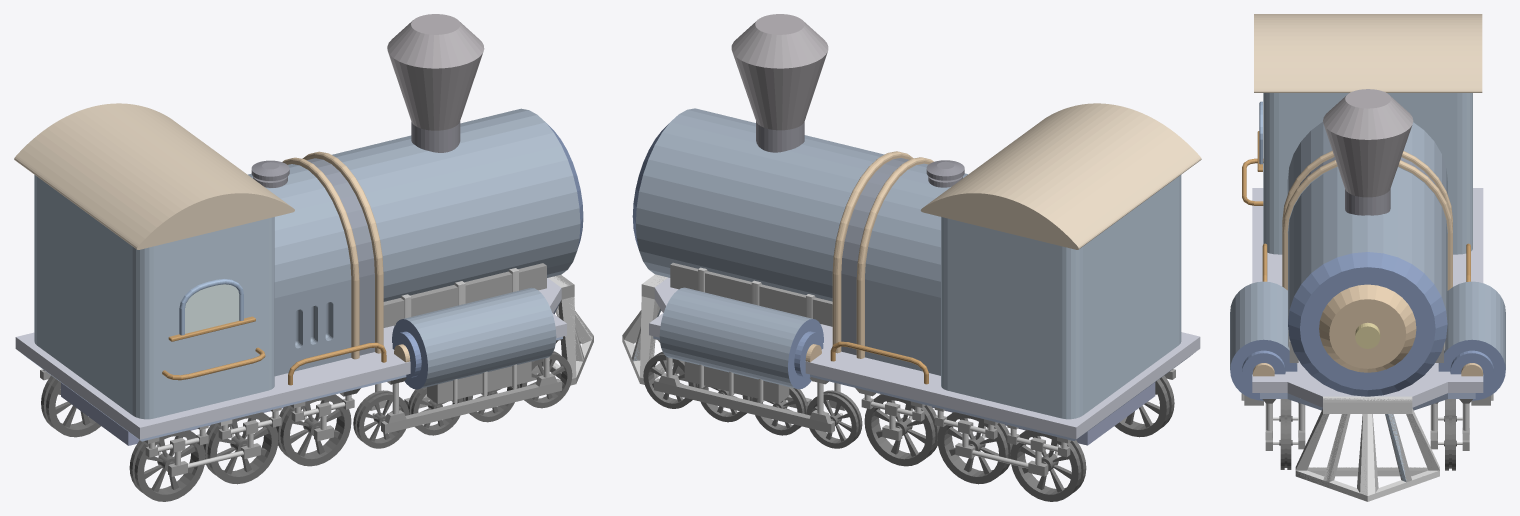
Rendered from locomotive.fbx.
3 renders of one model, left to right at view 1: azimuth 30°, elevation 25°; view 2: azimuth 150°, elevation 25°; view 3: azimuth 270°, elevation 25°, orthographic. The views are drawn at different scales.
Parts seen in each view (by area): view 1: 立方体.149, 柱体.142, 柱体.101, 柱体.137, 柱体.122, 柱体.090, 柱体.127, 柱体.175, 柱体.176; view 2: 立方体.149, 柱体.142, 柱体.102, 柱体.127, 柱体.121, 柱体.091, 柱体.137, 柱体.173, 柱体.165, 立方体.030, 柱体.172; view 3: 立方体.149, 柱体.142, 立方体.025, 立方体.027, 立方体.031, 立方体.030, 柱体.175, 柱体.173, 立方体.029, 立方体.032, 立方体.026, 立方体.028.
Part boxes in pixels (x1=…): 立方体.149: x1=14, y1=103, x2=593, y2=476; 柱体.142: x1=387, y1=14, x2=484, y2=152; 柱体.101: x1=276, y1=394, x2=351, y2=466; 柱体.137: x1=129, y1=430, x2=205, y2=501; 柱体.122: x1=203, y1=412, x2=278, y2=484; 柱体.090: x1=353, y1=390, x2=409, y2=448; 柱体.127: x1=41, y1=375, x2=100, y2=437; 柱体.175: x1=517, y1=351, x2=572, y2=408; 柱体.176: x1=408, y1=387, x2=463, y2=435; 立方体.149: x1=632, y1=103, x2=1201, y2=476; 柱体.142: x1=731, y1=14, x2=828, y2=152; 柱体.102: x1=864, y1=394, x2=939, y2=466; 柱体.127: x1=1010, y1=429, x2=1086, y2=501; 柱体.121: x1=937, y1=412, x2=1012, y2=484; 柱体.091: x1=806, y1=390, x2=862, y2=448; 柱体.137: x1=1114, y1=375, x2=1174, y2=437; 柱体.173: x1=643, y1=352, x2=697, y2=408; 柱体.165: x1=752, y1=387, x2=807, y2=435; 立方体.030: x1=640, y1=296, x2=654, y2=378; 柱体.172: x1=697, y1=384, x2=752, y2=422; 立方体.149: x1=1230, y1=14, x2=1505, y2=500; 柱体.142: x1=1323, y1=89, x2=1413, y2=215; 立方体.025: x1=1323, y1=396, x2=1412, y2=413; 立方体.027: x1=1295, y1=470, x2=1439, y2=501; 立方体.031: x1=1360, y1=414, x2=1378, y2=495; 立方体.030: x1=1406, y1=408, x2=1439, y2=470; 柱体.175: x1=1279, y1=415, x2=1292, y2=469; 柱体.173: x1=1444, y1=416, x2=1456, y2=470; 立方体.029: x1=1295, y1=414, x2=1328, y2=470; 立方体.032: x1=1385, y1=414, x2=1411, y2=482; 立方体.026: x1=1308, y1=467, x2=1426, y2=476; 立方体.028: x1=1323, y1=414, x2=1350, y2=481.
Size of the model in its own units: 727 by 490 by 360.
